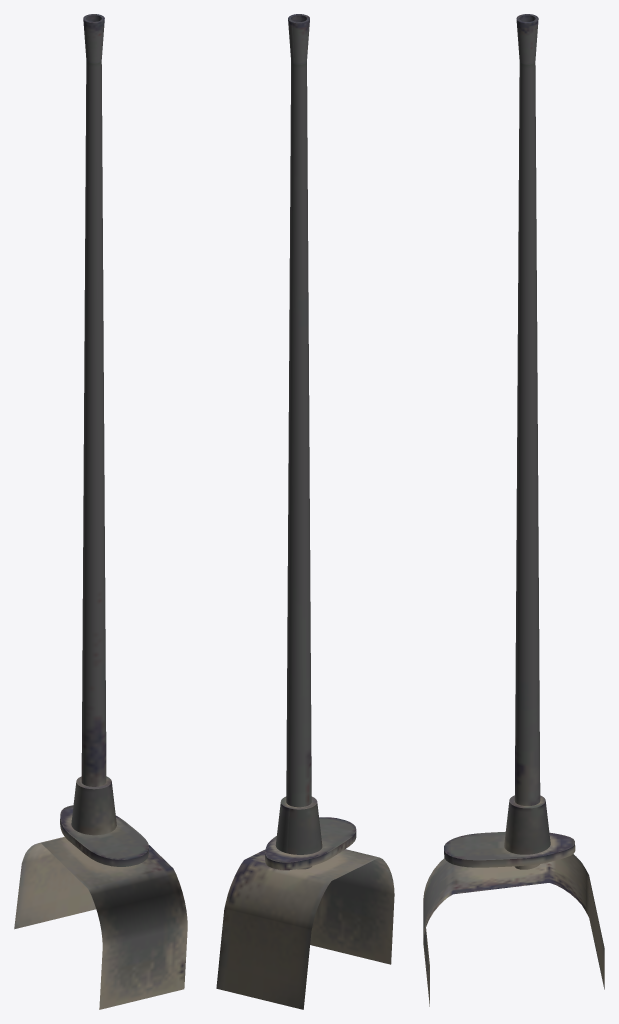
File: Gun_04.glb
3 views of the same model, side by side, from view 1: azimuth 30°, elevation 25°; view 2: azimuth 150°, elevation 25°; view 3: azimuth 270°, elevation 25° (orthographic). The views are drawn at different scales.
Parts seen in each view (by area): view 1: set_0_group_0; view 2: set_0_group_0; view 3: set_0_group_0.
Boxes of the visible parts, x1=… form: set_0_group_0: x1=14, y1=14, x2=187, y2=1009; set_0_group_0: x1=216, y1=14, x2=394, y2=1009; set_0_group_0: x1=423, y1=14, x2=604, y2=1006.
Bounding box in the file's own units: 0.2208 × 2.35 × 0.3981.
Materials: 1 (1 with a texture image).
